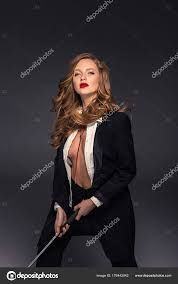no-mask: (56, 56, 118, 100)
